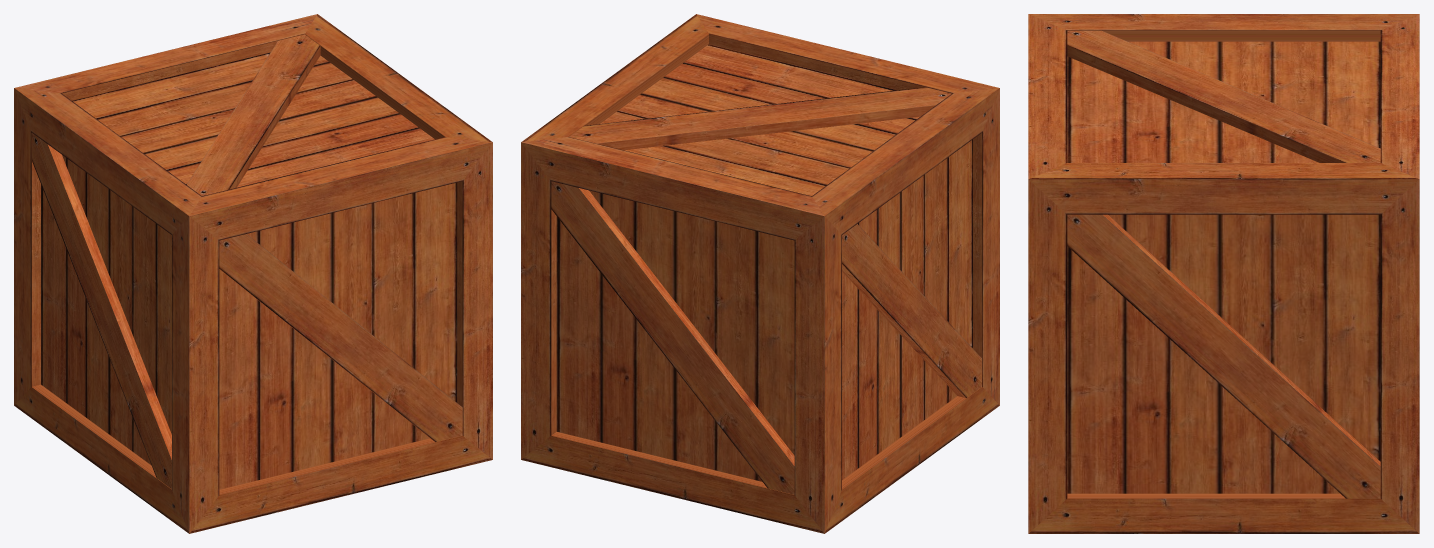
Rendered from Crate.fbx.
3 renders of one model, left to right at view 1: azimuth 30°, elevation 25°; view 2: azimuth 150°, elevation 25°; view 3: azimuth 270°, elevation 25°, orthographic. The views are drawn at different scales.
Parts seen in each view (by area): view 1: Cube_051; view 2: Cube_051; view 3: Cube_051.
Boxes of the visible parts, left/top/right/bottom form: Cube_051: left=14, top=14, right=492, bottom=533; Cube_051: left=521, top=14, right=999, bottom=533; Cube_051: left=1028, top=14, right=1419, bottom=533.
Bounding box in the file's own units: 2 × 2 × 2.
